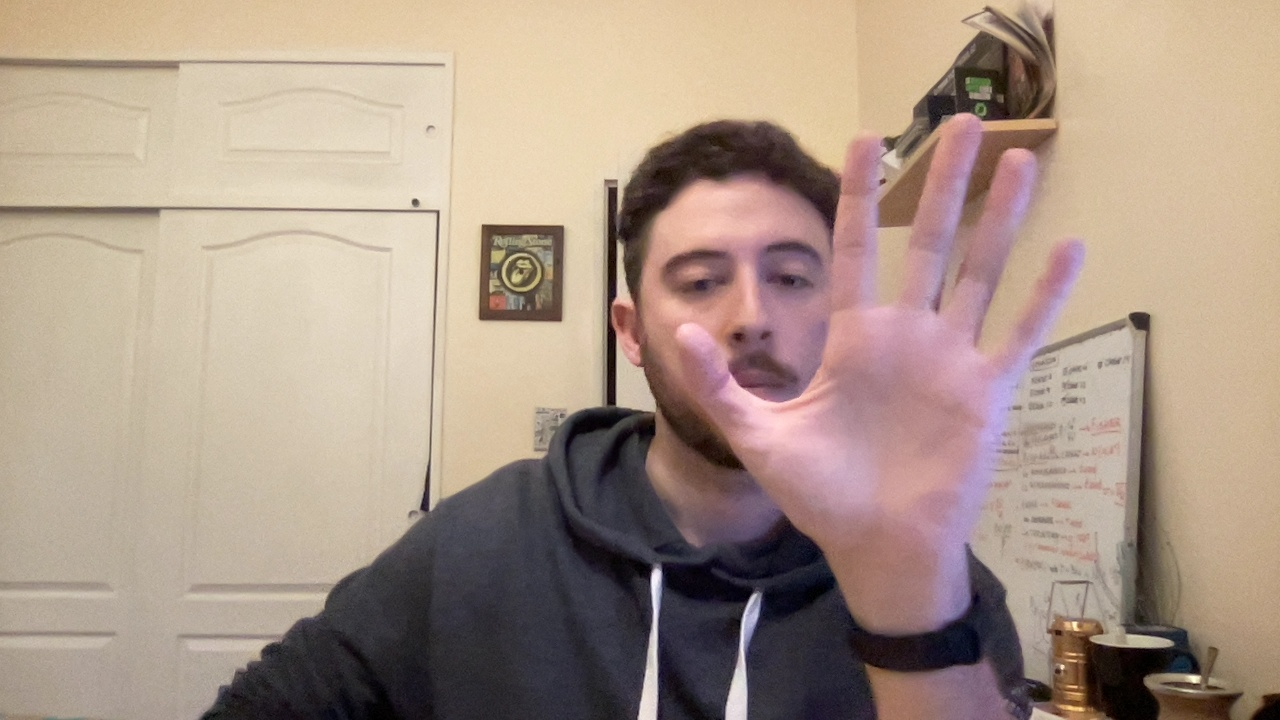abierto: (661, 118, 1101, 553)
